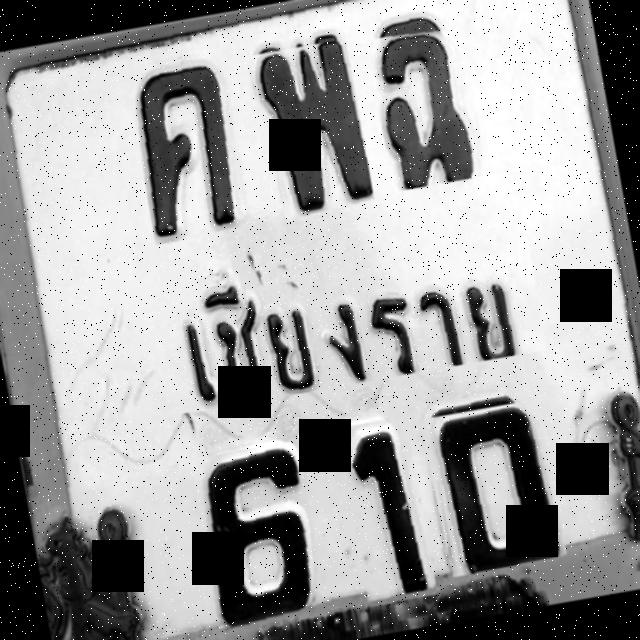letters: (190, 439, 334, 635), (419, 398, 567, 578), (125, 51, 256, 246), (248, 38, 376, 221), (328, 416, 438, 608), (366, 22, 490, 192)
license-plate: (0, 0, 640, 640)
province: (110, 216, 546, 422)
